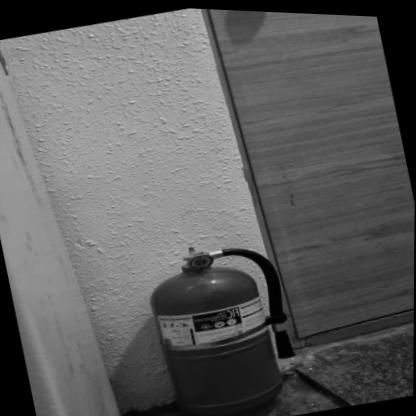FE: (141, 231, 310, 416)
